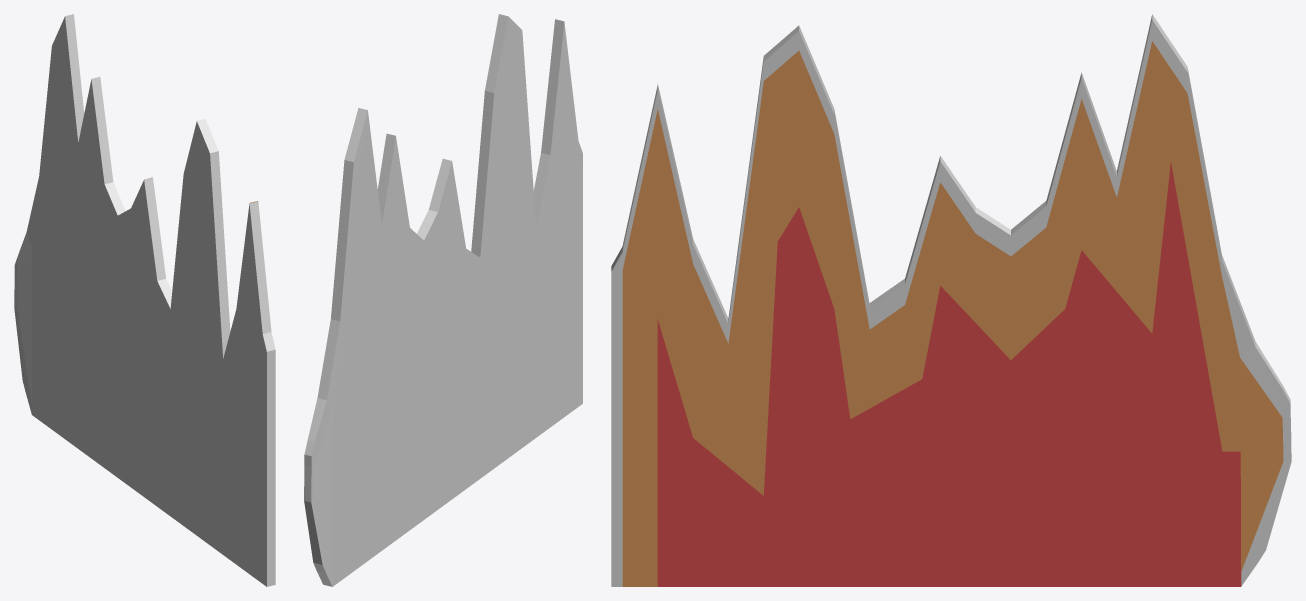
Rendered from Fire4.fbx.
The picture shows the model from 3 angles, left to right: view 1: azimuth 30°, elevation 25°; view 2: azimuth 150°, elevation 25°; view 3: azimuth 270°, elevation 25°; orthographic projection. The views are drawn at different scales.
Visible parts, largest first — view 1: Cube; view 2: Cube; view 3: Cube.
Part boxes in pixels (x1,y1,x2,y2): Cube: (14, 14, 275, 586); Cube: (304, 14, 582, 586); Cube: (611, 14, 1291, 586).
Size of the model in its own units: 6.07 by 277 by 301.
